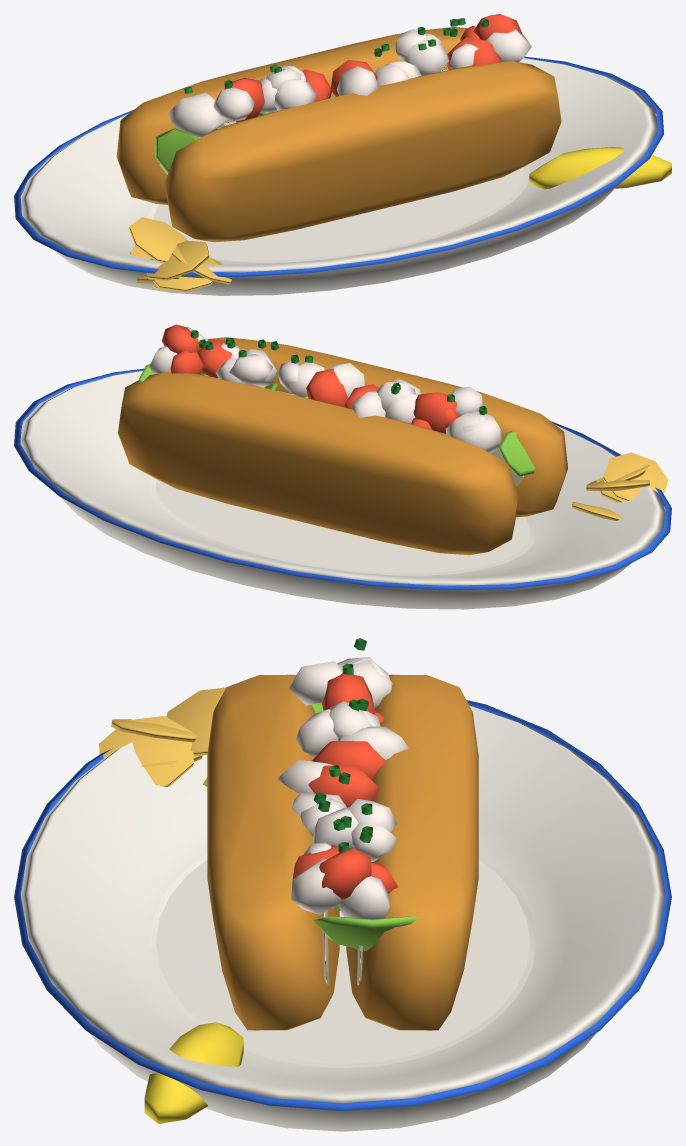
The picture shows the model from 3 angles, top to bottom: view 1: azimuth 30°, elevation 25°; view 2: azimuth 150°, elevation 25°; view 3: azimuth 270°, elevation 25°; orthographic projection. The views are drawn at different scales.
Visible parts, largest first — view 1: bun, plate, crab, plate_well, band, chips, lime, lettuce, chives; view 2: bun, plate, crab, plate_well, band, chips, lettuce, chives; view 3: plate, bun, plate_well, crab, band, chips, lime, lettuce, chives.
Boxes of the visible parts, bbox=[...] form: bun: bbox=[116, 27, 561, 242]; plate: bbox=[20, 58, 657, 295]; crab: bbox=[167, 14, 531, 137]; plate_well: bbox=[153, 167, 524, 260]; band: bbox=[14, 56, 663, 277]; chips: bbox=[128, 217, 231, 292]; lime: bbox=[529, 147, 671, 189]; lettuce: bbox=[155, 112, 268, 172]; chives: bbox=[184, 18, 488, 93]; bun: bbox=[118, 337, 567, 555]; plate: bbox=[20, 371, 664, 609]; crab: bbox=[149, 324, 502, 453]; plate_well: bbox=[155, 479, 530, 573]; band: bbox=[14, 368, 671, 590]; chips: bbox=[571, 452, 668, 520]; lettuce: bbox=[139, 364, 534, 476]; chives: bbox=[190, 330, 487, 415]; plate: bbox=[21, 705, 664, 1131]; bun: bbox=[207, 674, 478, 1030]; plate_well: bbox=[156, 859, 529, 1064]; crab: bbox=[277, 657, 408, 919]; band: bbox=[14, 700, 671, 1110]; chips: bbox=[99, 687, 226, 786]; lime: bbox=[144, 1022, 243, 1123]; lettuce: bbox=[312, 703, 419, 951]; chives: bbox=[313, 638, 372, 852].
Size of the model in its own units: 0.204 by 0.053 by 0.1326.
